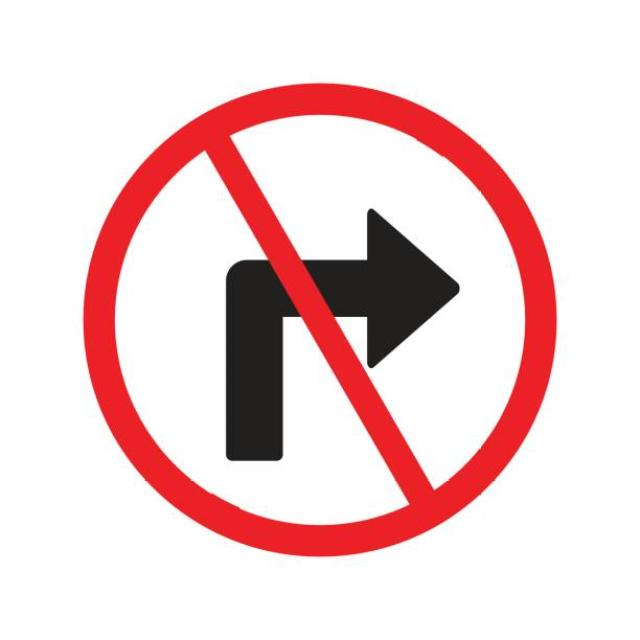RIGHT_TURN_PROHIBITED: (78, 79, 562, 564)
